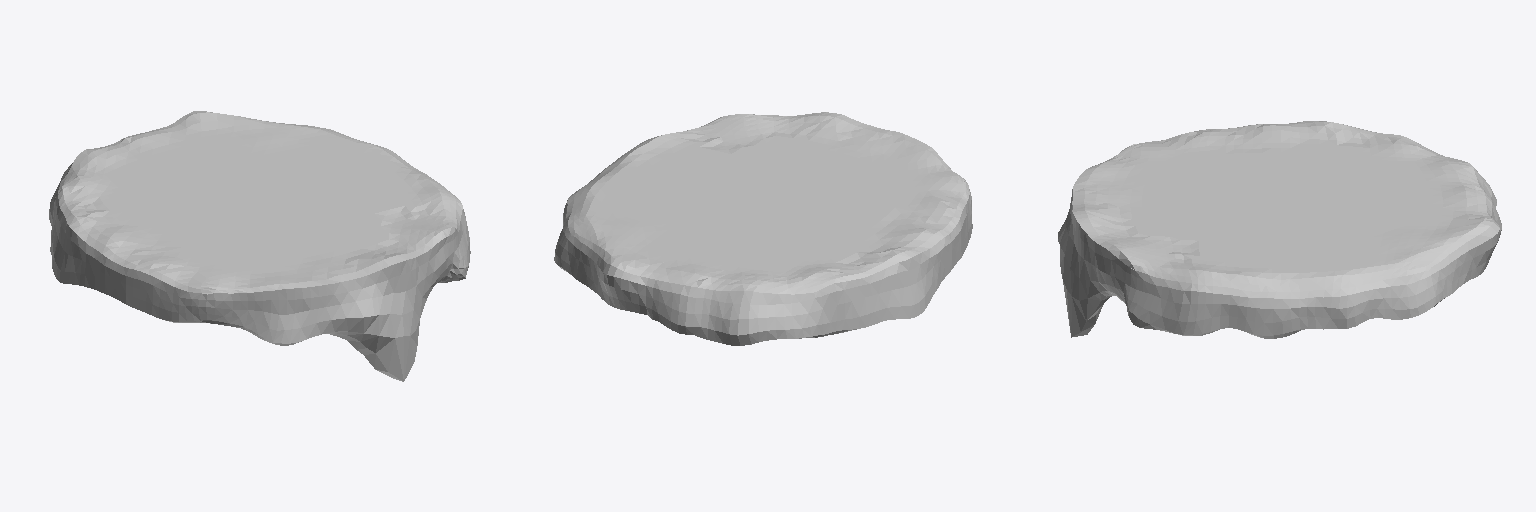
File: Lowish Rez Middle Base.obj
The picture shows the model from 3 angles: view 1: azimuth 30°, elevation 25°; view 2: azimuth 150°, elevation 25°; view 3: azimuth 270°, elevation 25°; orthographic projection.
Visible parts, largest first — view 1: pPlane3; view 2: pPlane3; view 3: pPlane3.
Boxes of the visible parts, <box> form: pPlane3: <box>49,111,470,381</box>; pPlane3: <box>554,112,972,345</box>; pPlane3: <box>1058,121,1501,338</box>.
Size of the model in its own units: 37.25 by 12.26 by 40.95.